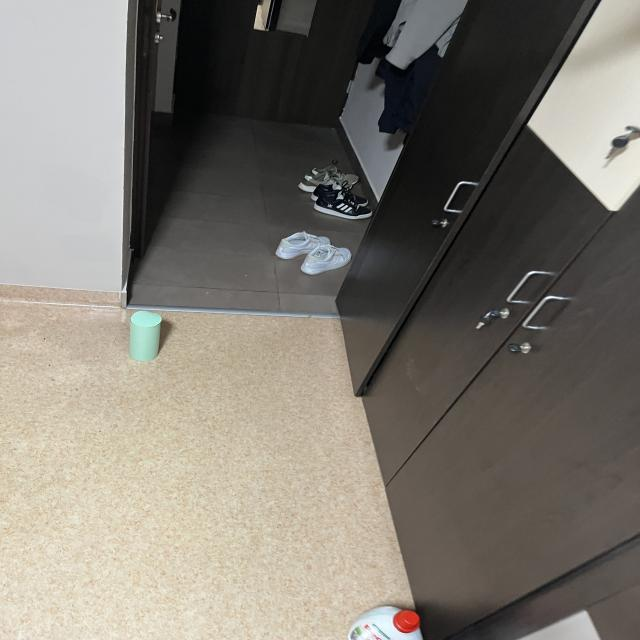meta: (130, 311, 162, 361)
